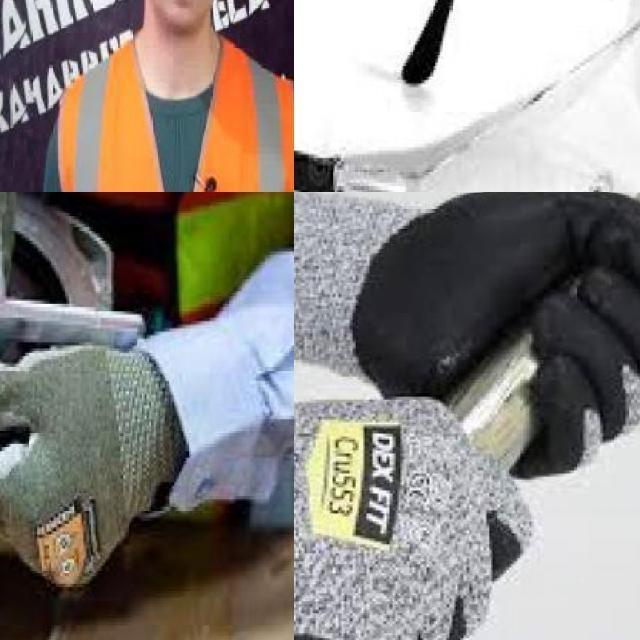apron: (294, 192, 640, 453), (294, 379, 523, 640), (0, 331, 176, 602)
